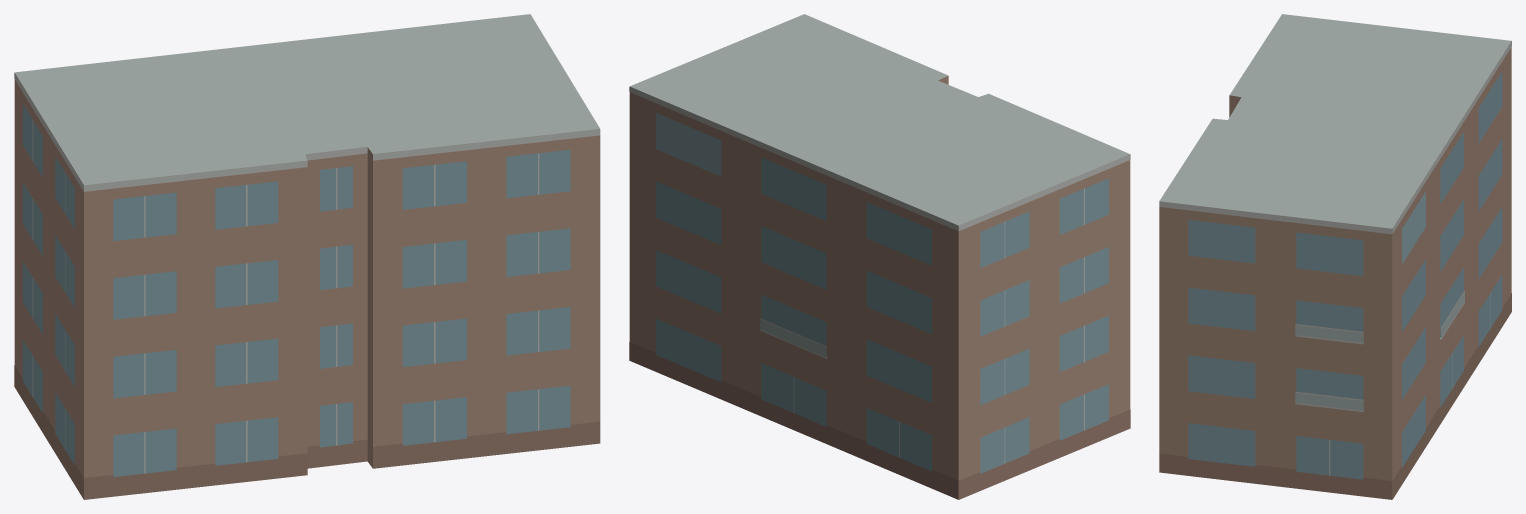
Rendered from survey-upis-32874488.glb.
The picture shows the model from 3 angles, left to right: view 1: azimuth 30°, elevation 25°; view 2: azimuth 150°, elevation 25°; view 3: azimuth 270°, elevation 25°; orthographic projection. The views are drawn at different scales.
Visible parts, largest first — view 1: survey-upis-32874488.tmp; view 2: survey-upis-32874488.tmp; view 3: survey-upis-32874488.tmp.
Part boxes in pixels (box(x1,y1,x2,y2)): survey-upis-32874488.tmp: box(14, 14, 600, 499); survey-upis-32874488.tmp: box(629, 14, 1130, 499); survey-upis-32874488.tmp: box(1159, 14, 1511, 499).
Bounding box in the file's own units: 20.05 × 11.8 × 13.91.
